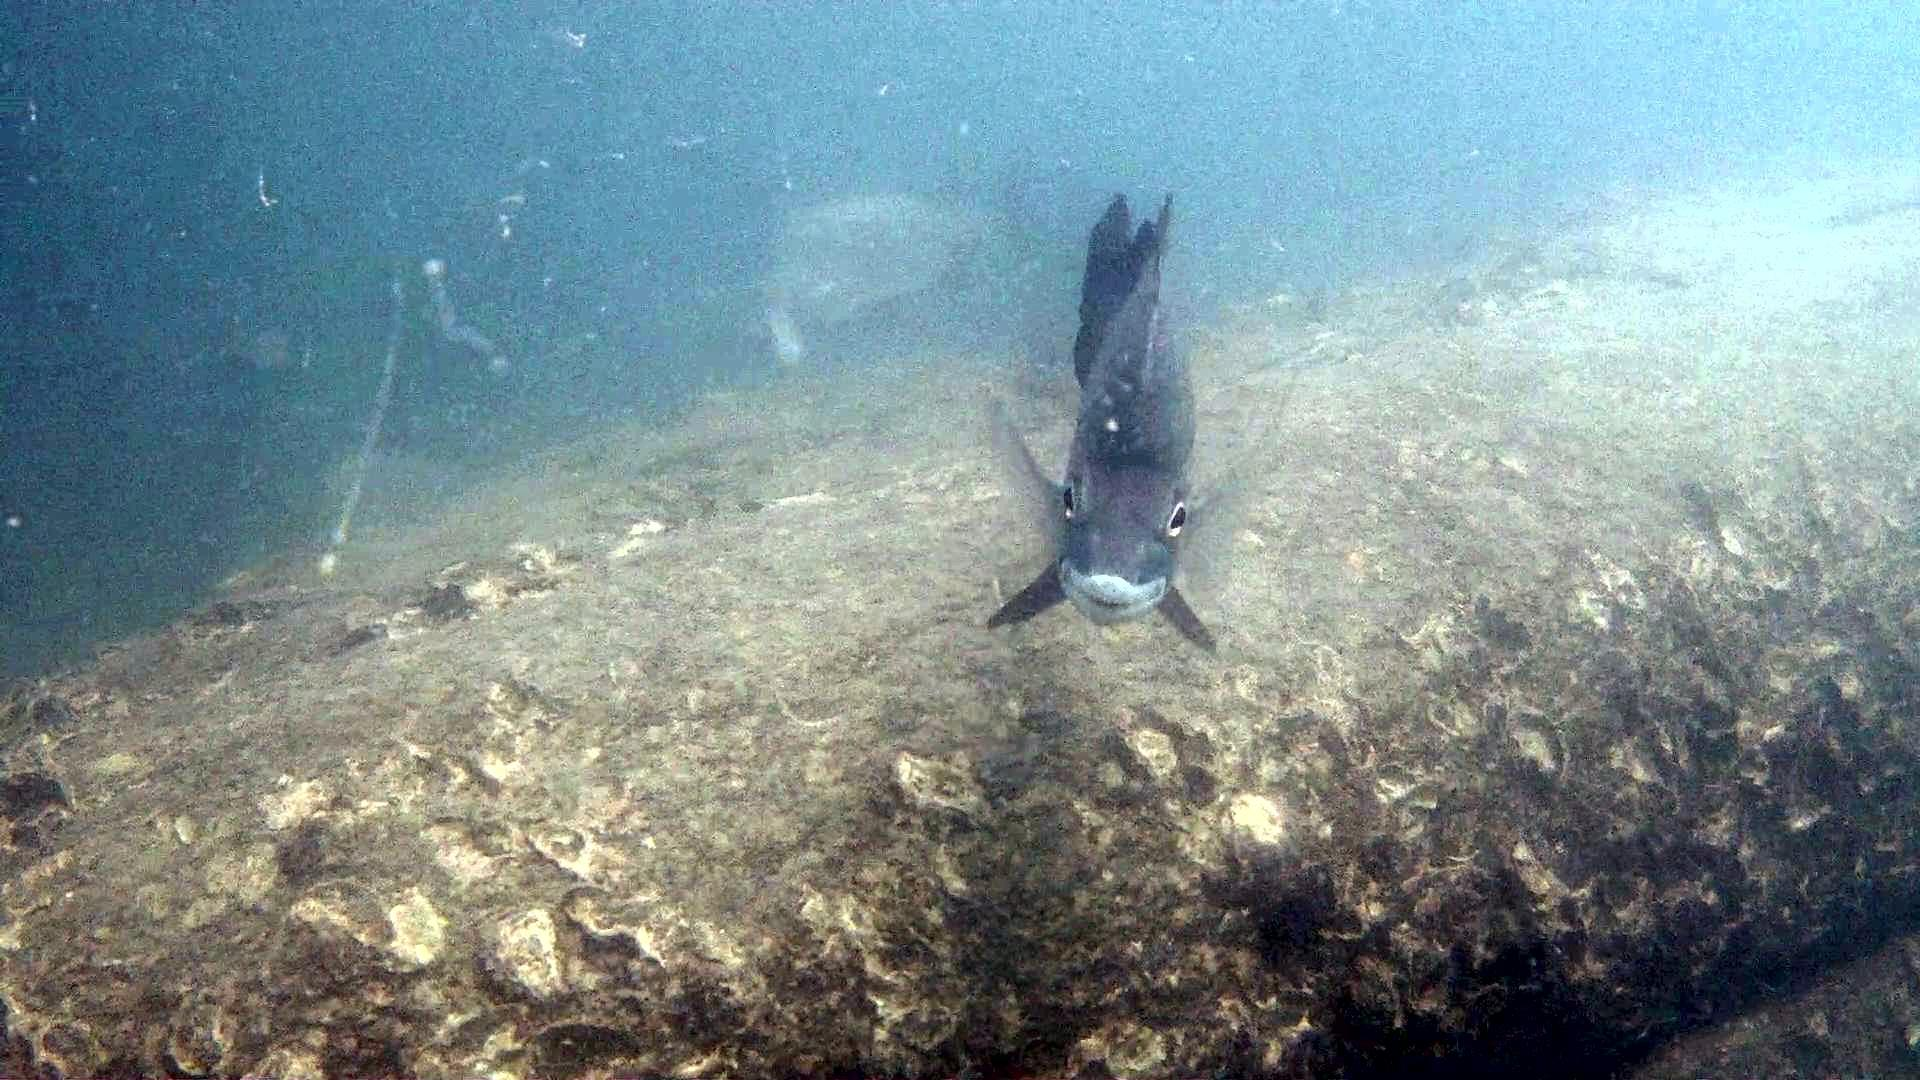acanthopagrus palmaris: (956, 175, 1230, 674)
